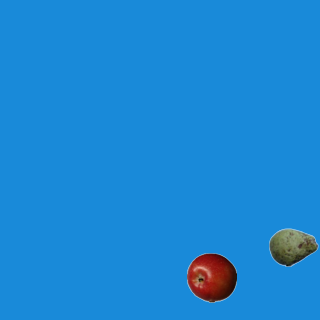Apple Braeburn: (186, 252, 236, 302)
Pear Stone: (268, 222, 318, 272)
